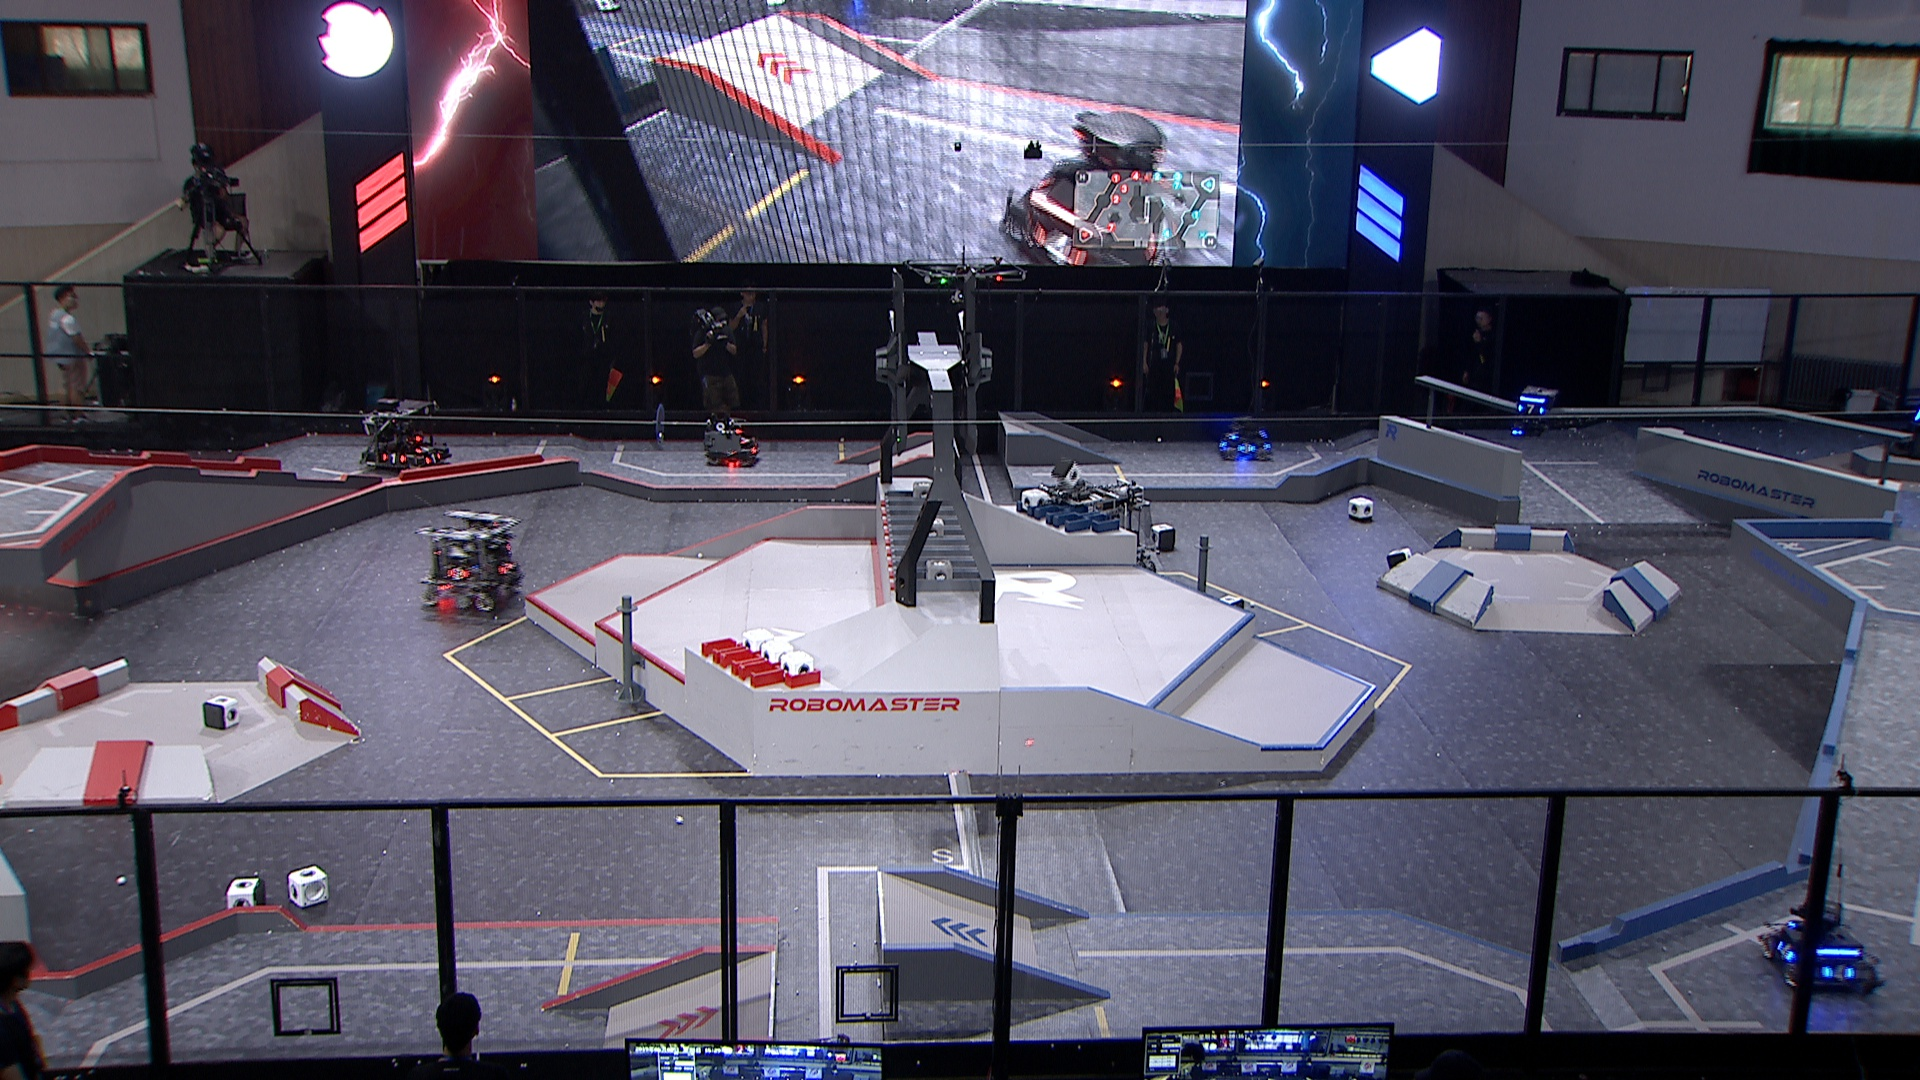armor: (1771, 935, 1803, 964), (1821, 960, 1855, 984), (1518, 400, 1544, 419), (409, 440, 438, 458), (380, 450, 407, 467), (447, 564, 469, 584), (423, 451, 446, 467), (1236, 440, 1259, 455), (498, 559, 517, 576), (736, 431, 752, 447), (1225, 425, 1240, 442)
base: (1887, 376, 1920, 460)
car: (407, 506, 527, 618), (1762, 887, 1884, 992), (1054, 480, 1160, 585), (352, 398, 454, 471), (702, 414, 761, 469), (1221, 415, 1276, 462)
ignore: (992, 105, 1182, 266)
watcher: (1506, 384, 1561, 440)
